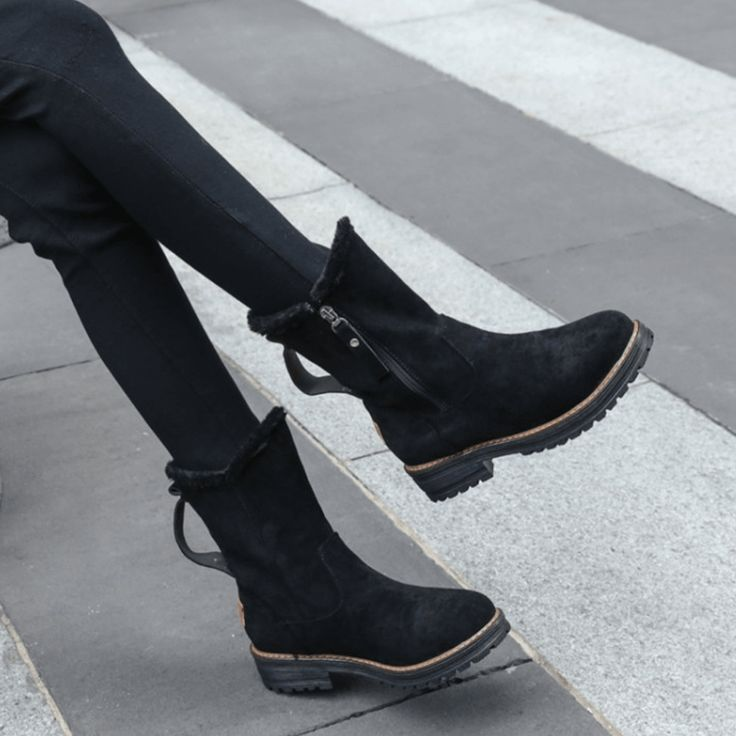gamuza: (171, 226, 633, 666)
